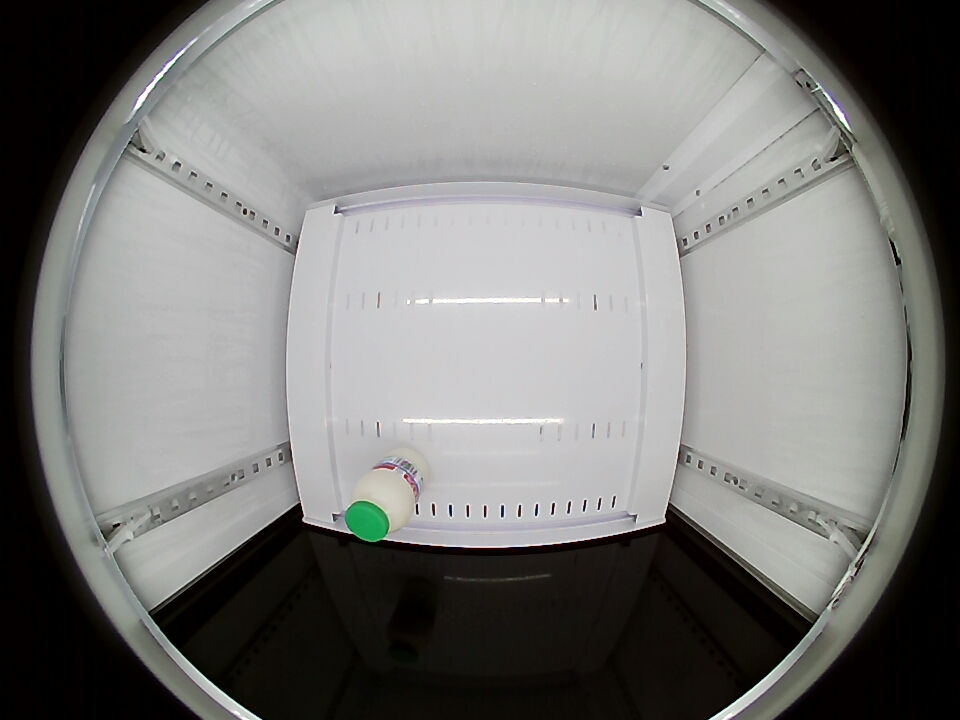liziyuan: (345, 467, 418, 542)
